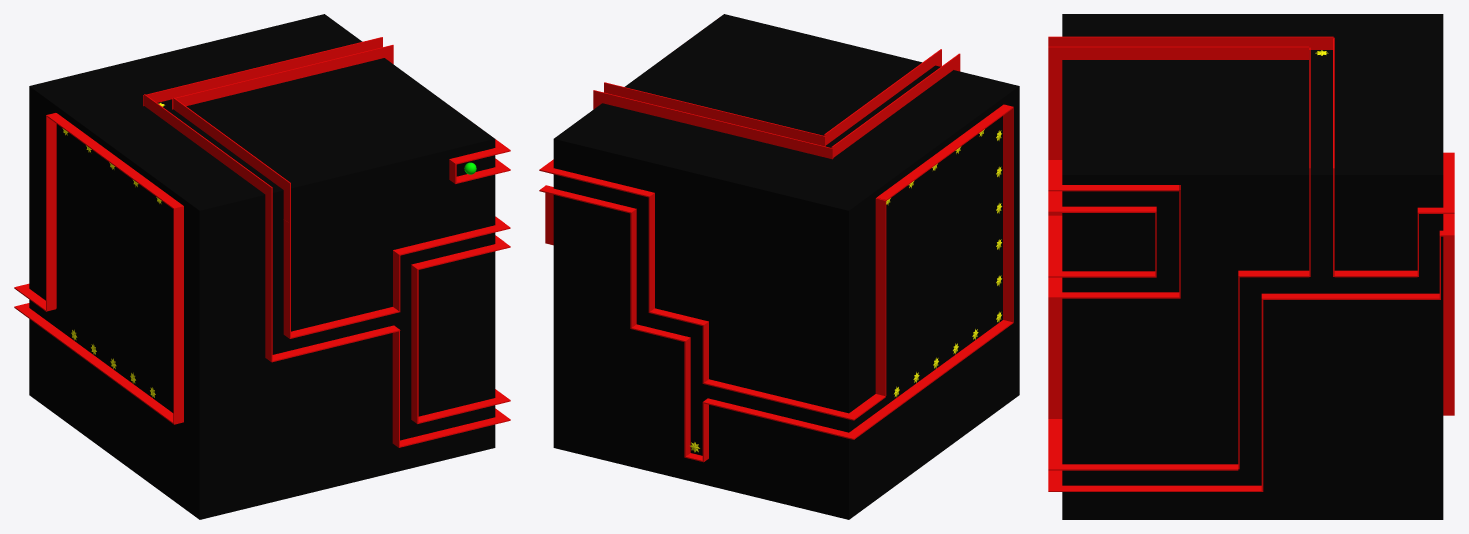
The model's file is SpinPuzzle.fbx.
3 renders of one model, left to right at view 1: azimuth 30°, elevation 25°; view 2: azimuth 150°, elevation 25°; view 3: azimuth 270°, elevation 25°, orthographic. The views are drawn at different scales.
Visible parts, largest first — view 1: group3; view 2: group3; view 3: group3.
Part boxes in pixels (x1,y1,x2,y2): group3: [14, 14, 510, 519]; group3: [539, 14, 1019, 519]; group3: [1048, 14, 1454, 519].
Bounding box in the file's own units: 34.09 × 33.2 × 34.15.
